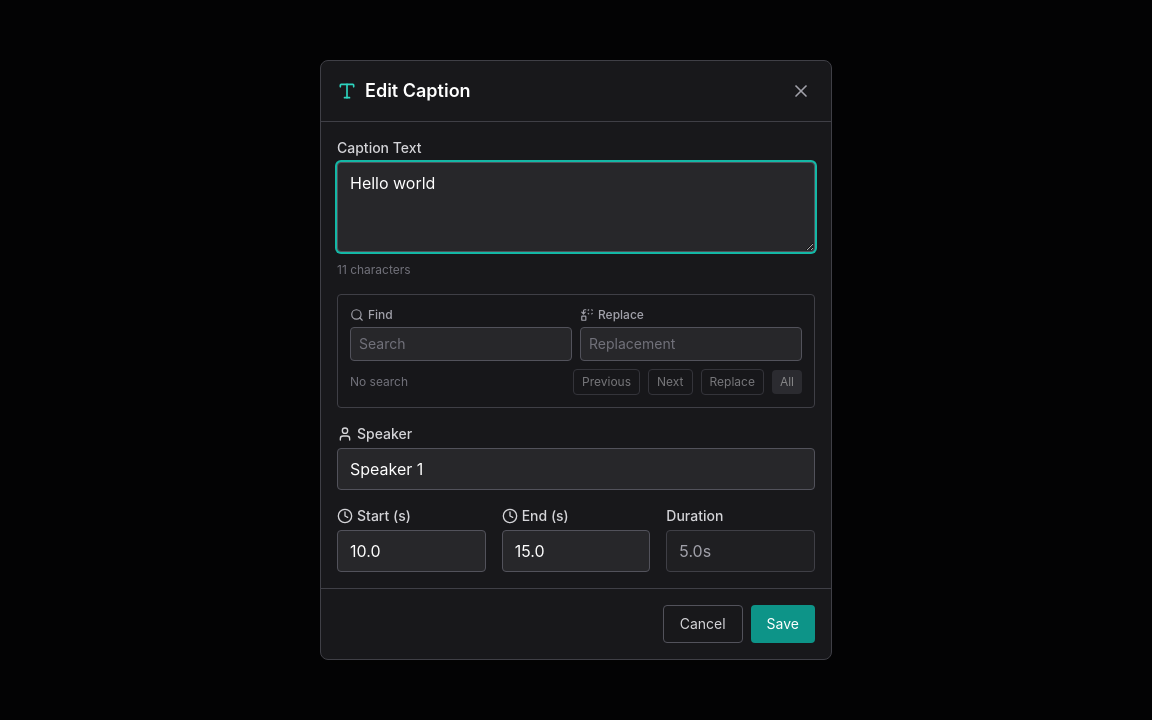
Test case: CaptionEditor › Duration Display › updates duration when times change
Replace the text in the number field labelled "End (s)" with "20" at (576, 551), box [502,530,650,572]
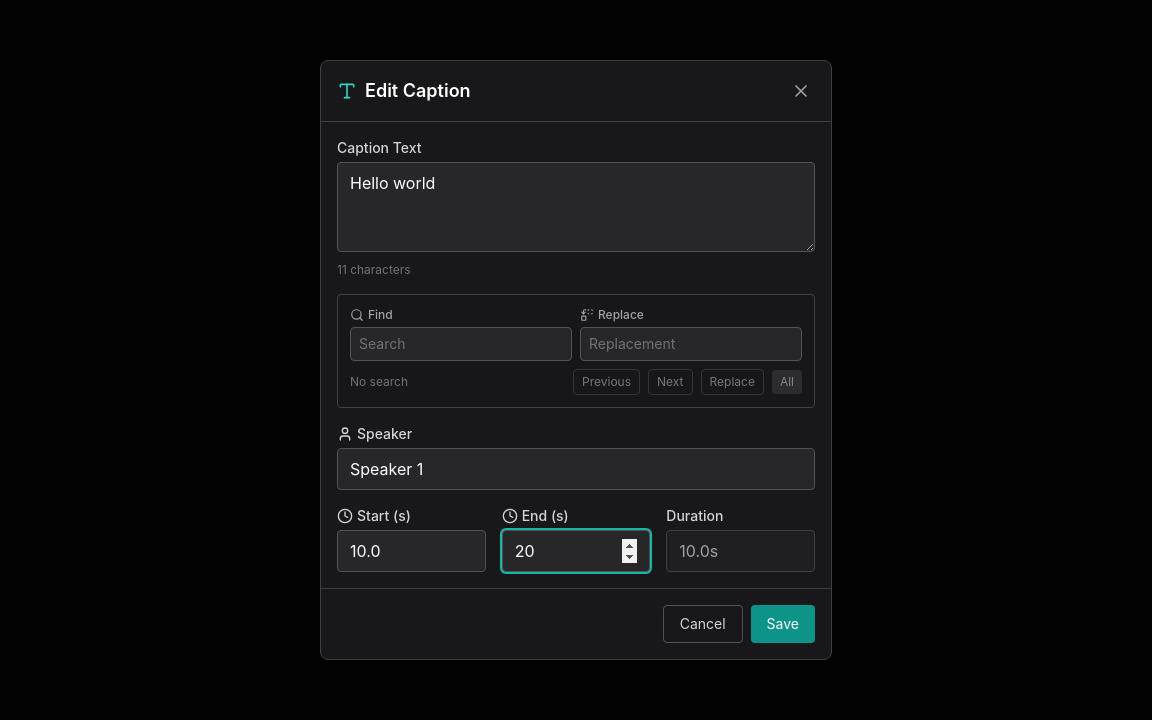
Now the text "10.0s" is shown, box [666,530,815,572]
